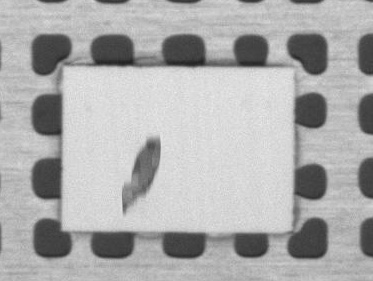DIE_INK: (117, 136, 167, 212)
